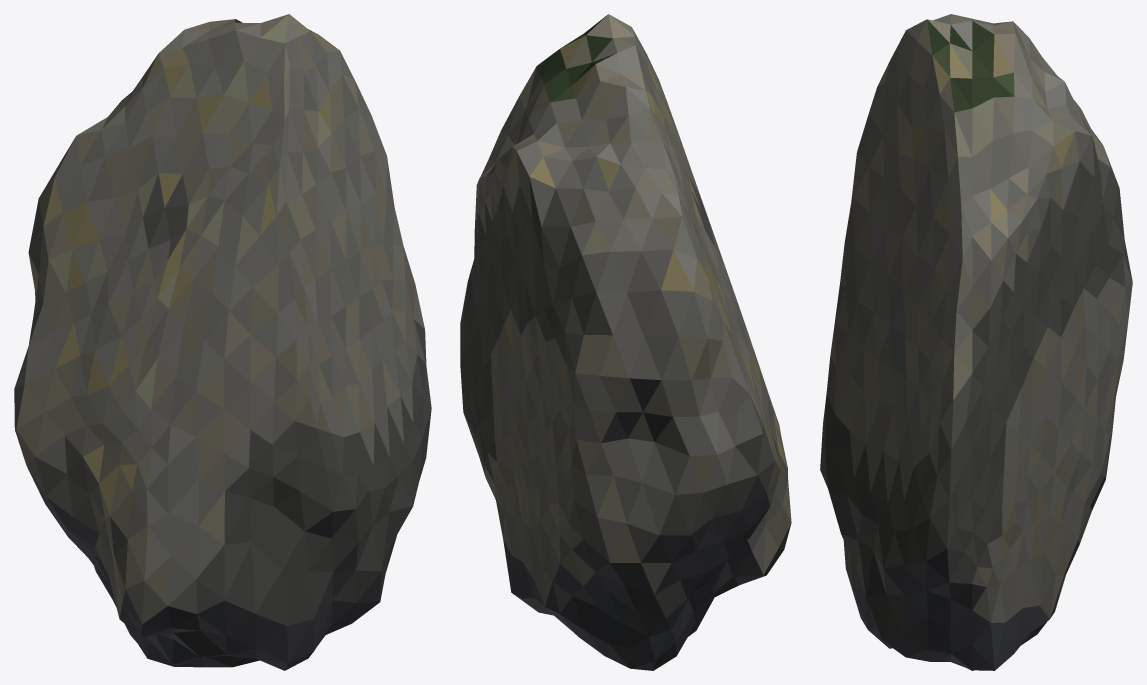
Rendered from rock-tall.glb.
3 views of the same model, side by side, from view 1: azimuth 30°, elevation 25°; view 2: azimuth 150°, elevation 25°; view 3: azimuth 270°, elevation 25° (orthographic). The views are drawn at different scales.
Visible parts, largest first — view 1: rock-tall; view 2: rock-tall; view 3: rock-tall.
Part boxes in pixels (<box>): rock-tall: <box>14,14,431,670</box>; rock-tall: <box>460,14,791,670</box>; rock-tall: <box>820,14,1132,670</box>.
Bounding box in the file's own units: 0.7971 × 1.33 × 0.5762.
